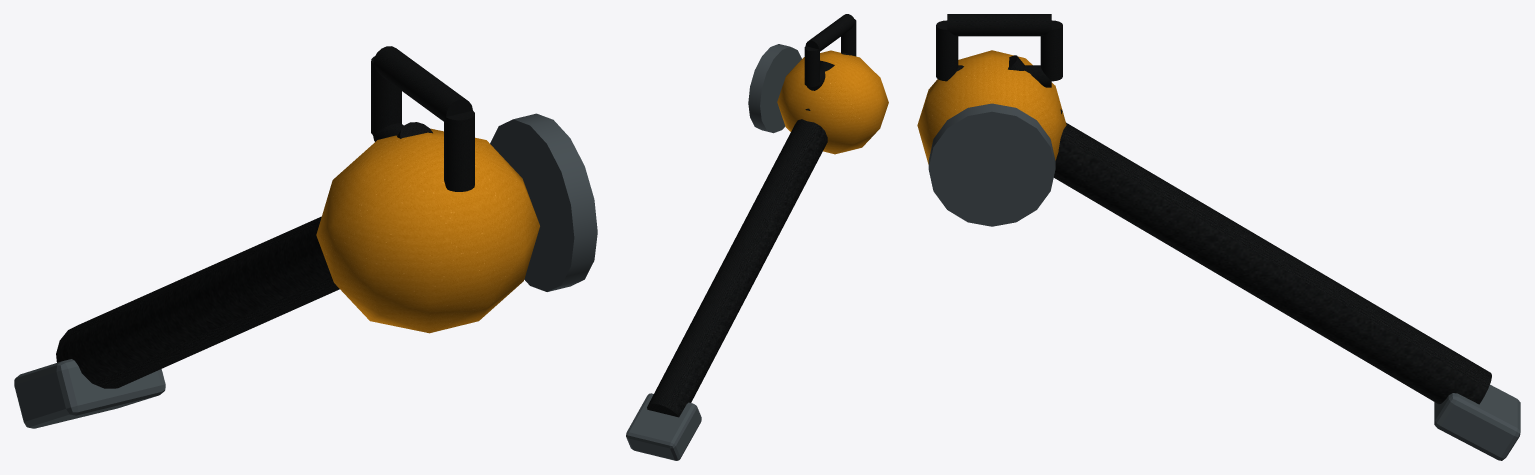
Rendered from LeafBlower.gltf.
3 renders of one model, left to right at view 1: azimuth 30°, elevation 25°; view 2: azimuth 150°, elevation 25°; view 3: azimuth 270°, elevation 25°, orthographic. The views are drawn at different scales.
Parts seen in each view (by area): view 1: LeafBlower__Body; view 2: LeafBlower__Body; view 3: LeafBlower__Body.
Part boxes in pixels (box(x1,y1,x2,y2)): LeafBlower__Body: box(14, 46, 597, 428); LeafBlower__Body: box(626, 14, 888, 460); LeafBlower__Body: box(917, 14, 1520, 460).
Bounding box in the file's own units: 0.3411 × 0.891 × 1.13.
2 materials, 1 textured.
